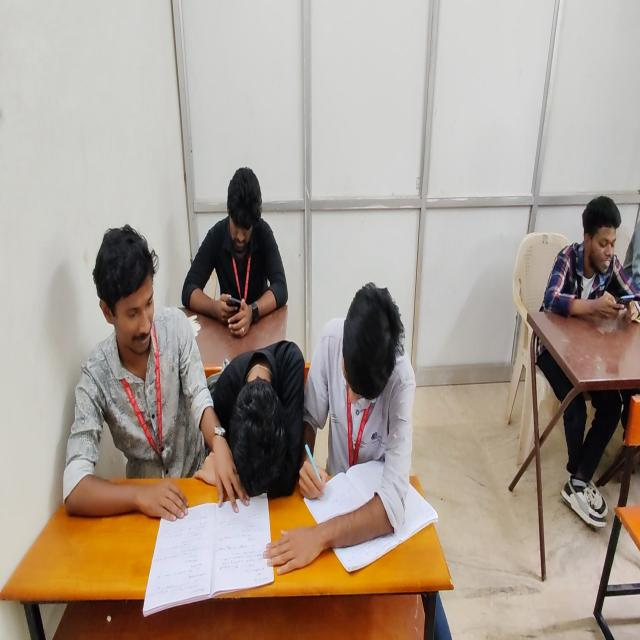sleeping: (211, 322, 304, 512)
turning: (63, 225, 236, 523)
using_mobile: (535, 191, 639, 522), (181, 165, 290, 334)
writing: (283, 279, 437, 634)
